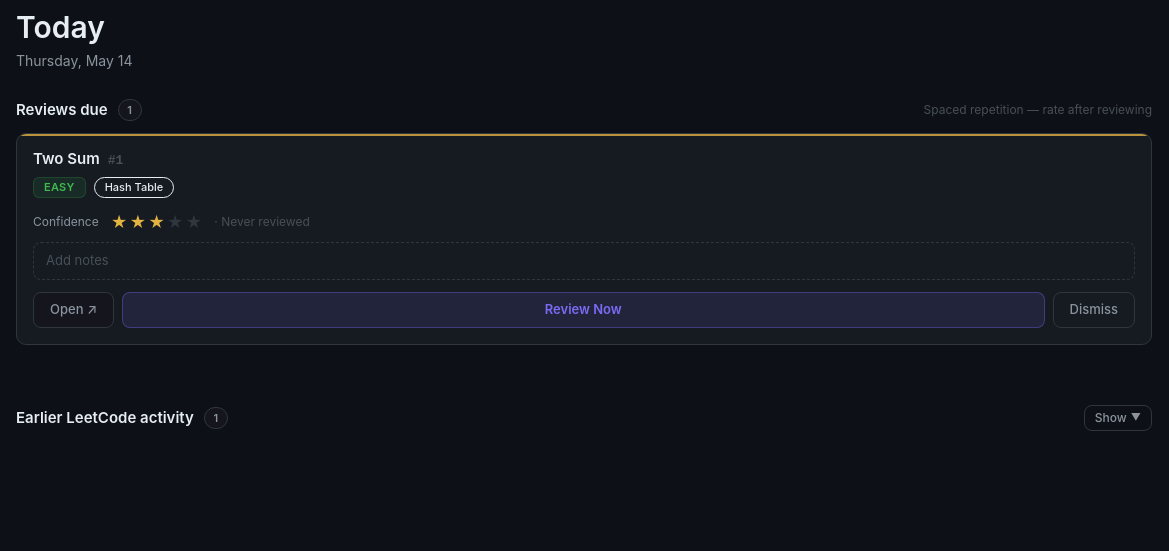
Test: TodayView earlier LeetCode activity › shows stars when a review event exists for that local day
Click the button "Show ▼" at (1118, 418), box x1=1084 y1=405 x2=1152 y2=431
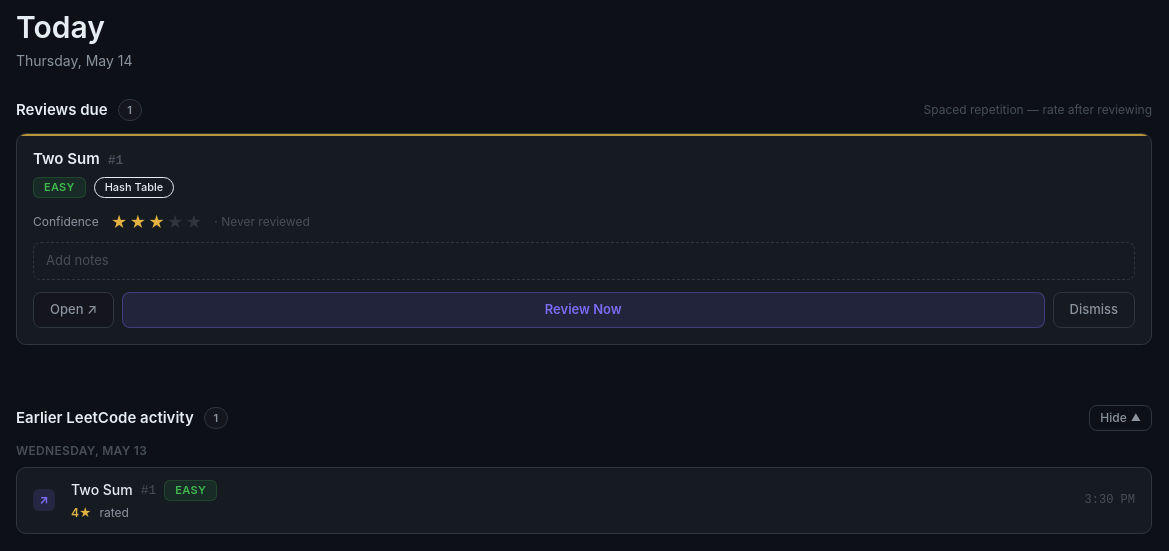
Now the text "4★" is shown, box x1=71 y1=505 x2=92 y2=521
